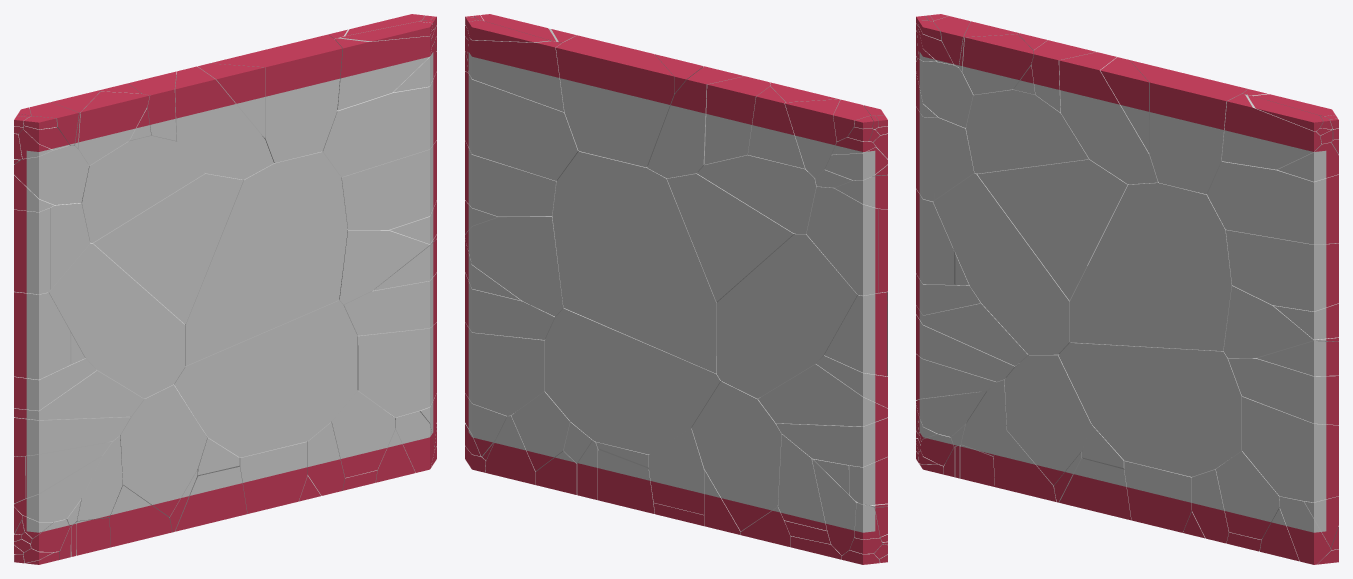
Rendered from mirror_scattered.fbx.
3 renders of one model, left to right at view 1: azimuth 30°, elevation 25°; view 2: azimuth 150°, elevation 25°; view 3: azimuth 330°, elevation 25°, orthographic.
Parts seen in each view (by area): view 1: Cube.001_cell.023, Cube.001_cell.074, Cube.001_cell.012, Cube.001_cell.027, Cube.001_cell.081, Cube.001_cell.044, Cube.001_cell.036, Cube.001_cell.029, Cube.001_cell.022, Cube.001_cell.033, Cube.001_cell.015, Cube.001_cell.067 (+37 smaller); view 2: Cube.001_cell.023, Cube.001_cell.074, Cube.001_cell.012, Cube.001_cell.081, Cube.001_cell.044, Cube.001_cell.027, Cube.001_cell.029, Cube.001_cell.064, Cube.001_cell.033, Cube.001_cell.085, Cube.001_cell.036, Cube.001_cell.097 (+40 smaller); view 3: Cube.001_cell.023, Cube.001_cell.074, Cube.001_cell.012, Cube.001_cell.027, Cube.001_cell.081, Cube.001_cell.029, Cube.001_cell.044, Cube.001_cell.036, Cube.001_cell.033, Cube.001_cell.022, Cube.001_cell.015, Cube.001_cell.067 (+35 smaller).
Boxes of the visible parts, x1,y1,x2,y2 form: Cube.001_cell.023: (185,151,347,365); Cube.001_cell.074: (174,300,357,457); Cube.001_cell.012: (48,242,185,398); Cube.001_cell.027: (93,173,243,324); Cube.001_cell.081: (210,34,342,162); Cube.001_cell.044: (120,384,207,517); Cube.001_cell.036: (81,135,204,242); Cube.001_cell.029: (322,72,436,177); Cube.001_cell.022: (175,66,273,179); Cube.001_cell.033: (357,322,436,417); Cube.001_cell.015: (341,140,436,229); Cube.001_cell.067: (335,35,431,110); Cube.001_cell.023: (552,151,716,373); Cube.001_cell.074: (544,308,721,454); Cube.001_cell.012: (716,234,857,398); Cube.001_cell.081: (556,35,674,167); Cube.001_cell.044: (691,381,781,531); Cube.001_cell.027: (667,172,795,302); Cube.001_cell.029: (465,71,578,180); Cube.001_cell.064: (465,217,563,316); Cube.001_cell.033: (465,322,544,415); Cube.001_cell.085: (806,187,877,295); Cube.001_cell.036: (697,154,821,233); Cube.001_cell.097: (758,360,887,426); Cube.001_cell.023: (1069,181,1231,350); Cube.001_cell.074: (1058,342,1242,476); Cube.001_cell.012: (933,173,1087,354); Cube.001_cell.027: (977,159,1127,300); Cube.001_cell.081: (1130,60,1247,194); Cube.001_cell.029: (1207,161,1338,244); Cube.001_cell.044: (1004,354,1091,486); Cube.001_cell.036: (966,89,1088,173); Cube.001_cell.033: (1242,396,1338,502); Cube.001_cell.022: (1059,52,1157,184); Cube.001_cell.015: (1226,229,1338,311); Cube.001_cell.067: (1221,94,1321,169).
Bounding box in the file's own units: 200 × 200 × 14.8.
